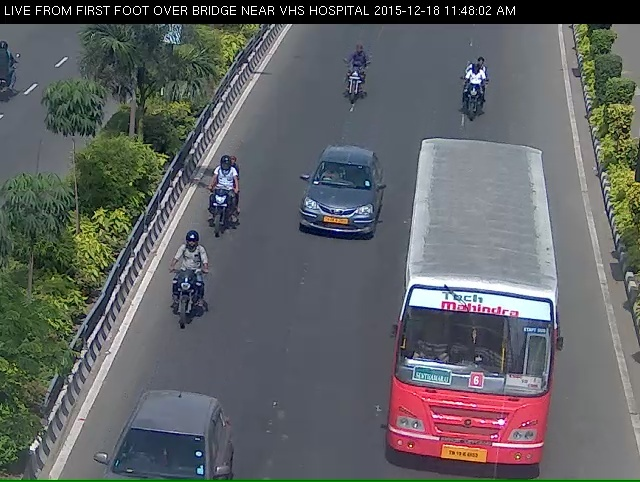Bus: (384, 148, 567, 479)
Car: (297, 163, 373, 267), (102, 433, 211, 480)
Person: (160, 255, 195, 352), (198, 173, 231, 252), (457, 65, 488, 136), (340, 56, 369, 112)
